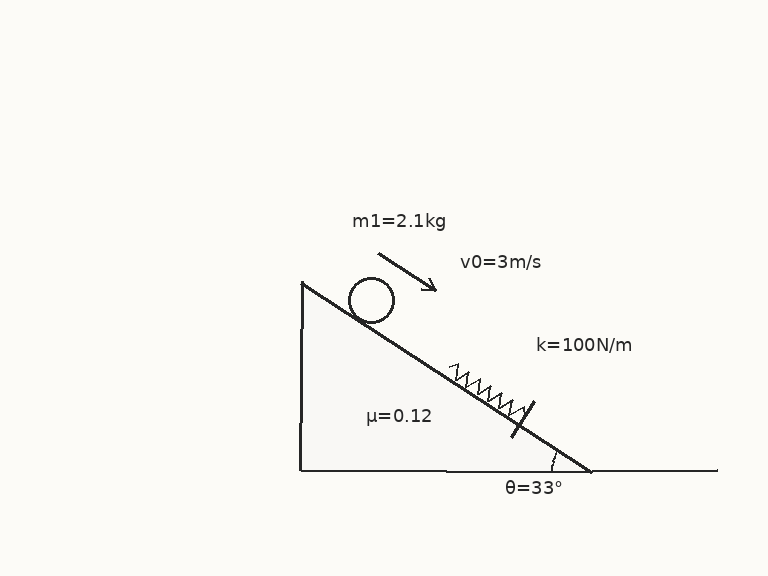ball: (346, 275, 396, 325)
ramp: (299, 280, 594, 473)
spring: (446, 363, 526, 418)
